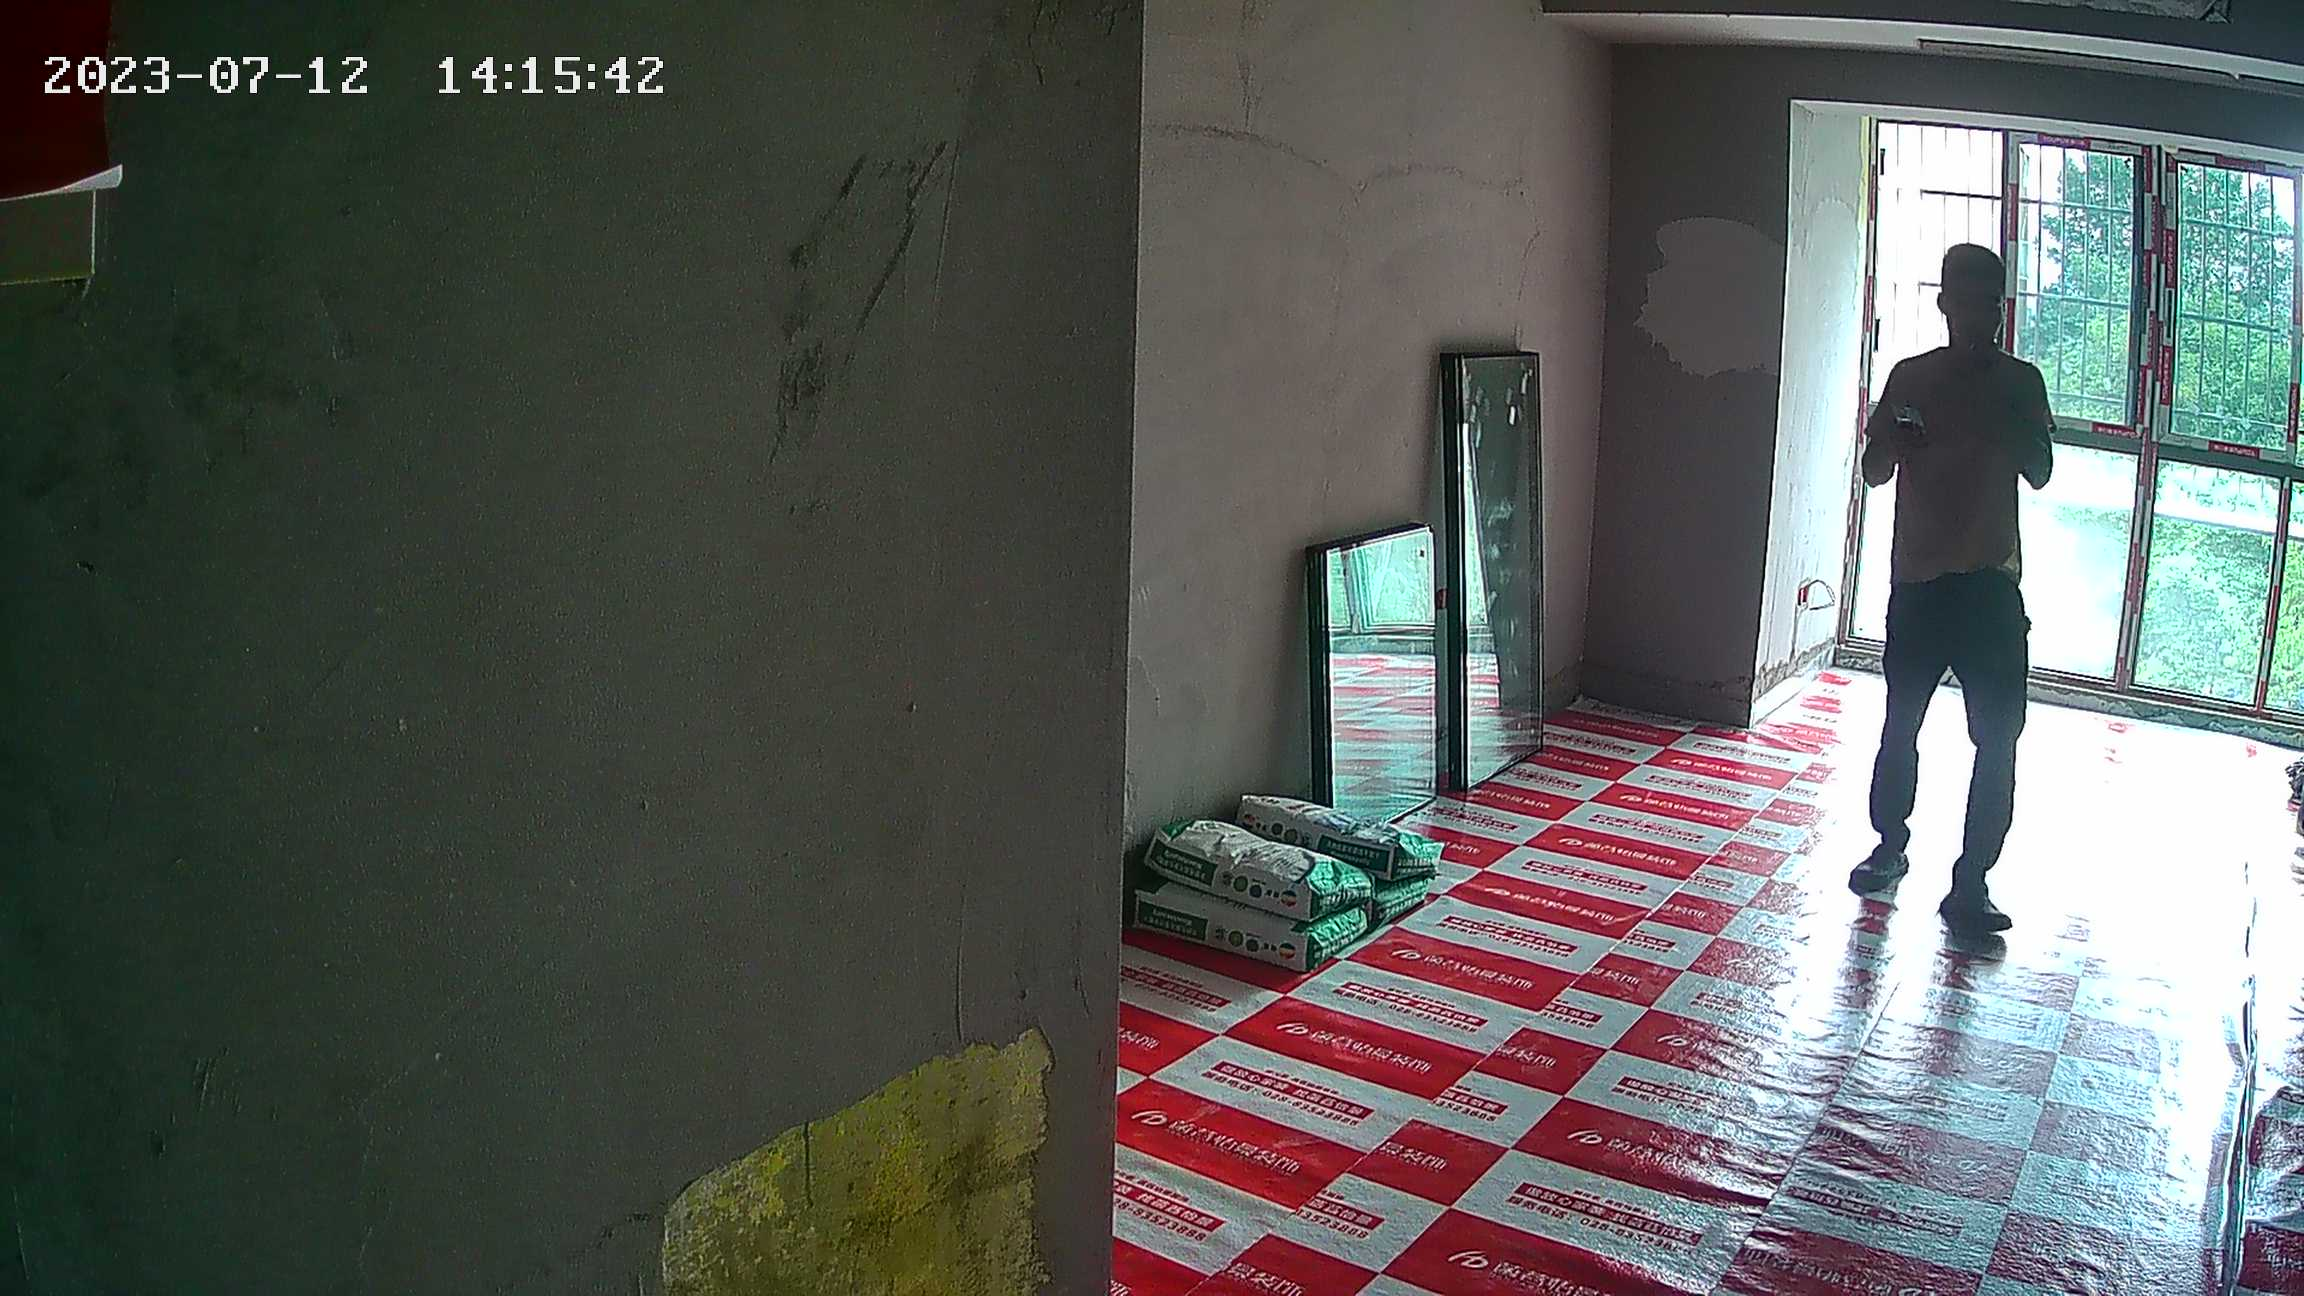people: (1838, 232, 2031, 950)
window: (1861, 106, 2300, 730)
